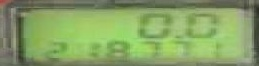-: (170, 33, 183, 38)
0: (132, 10, 170, 37), (180, 12, 218, 38)
1: (81, 39, 99, 58), (206, 40, 223, 57)
2: (38, 37, 66, 60)
7: (135, 39, 163, 56), (167, 39, 193, 56)
8: (102, 39, 130, 58)
